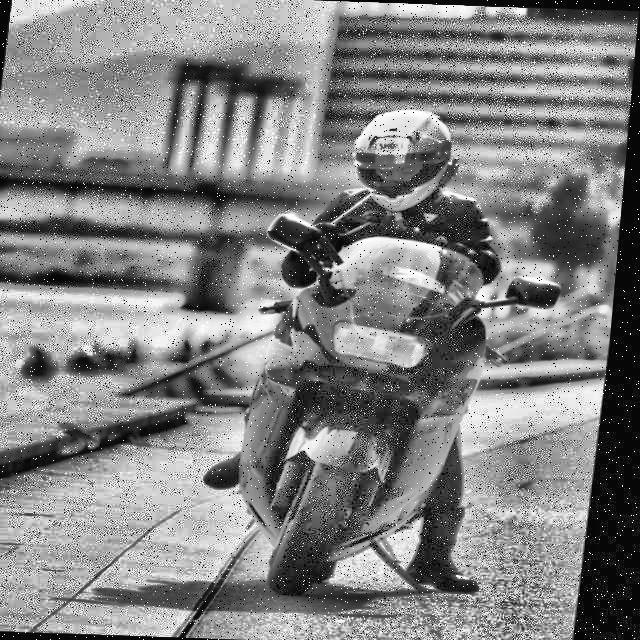Helmet: (342, 103, 468, 220)
